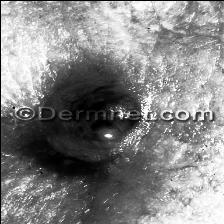Potentially Malignant Skin Tumors: (31, 124, 158, 172), (29, 68, 158, 104)
